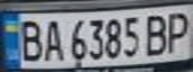3: (84, 16, 106, 61)
5: (121, 12, 145, 59)
6: (66, 16, 87, 61)
8: (103, 15, 127, 60)
A: (39, 16, 66, 63)
B: (142, 10, 172, 56), (15, 17, 45, 63)
P: (163, 8, 193, 54)
